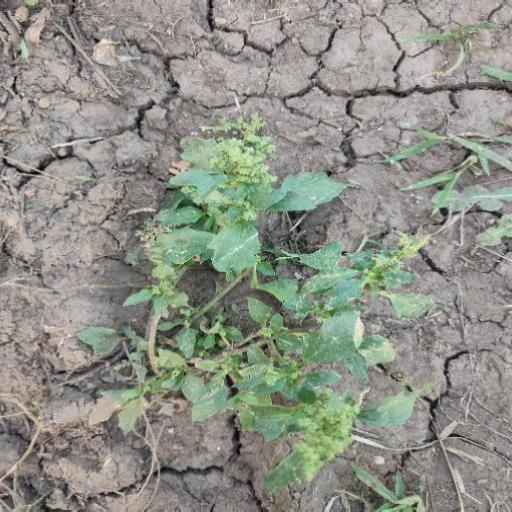weed: (55, 124, 406, 476)
